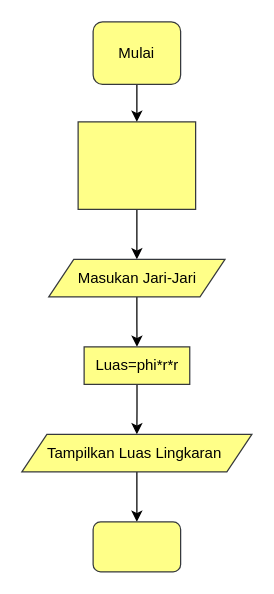
Image size: 274x594. Some labels were removed from this diagram. The centre of each missing label's shape, as x and y in pixels:
"float phi=3.14 integer r float luas" belongs at (136,165).
"Selesai" belongs at (136,546).
